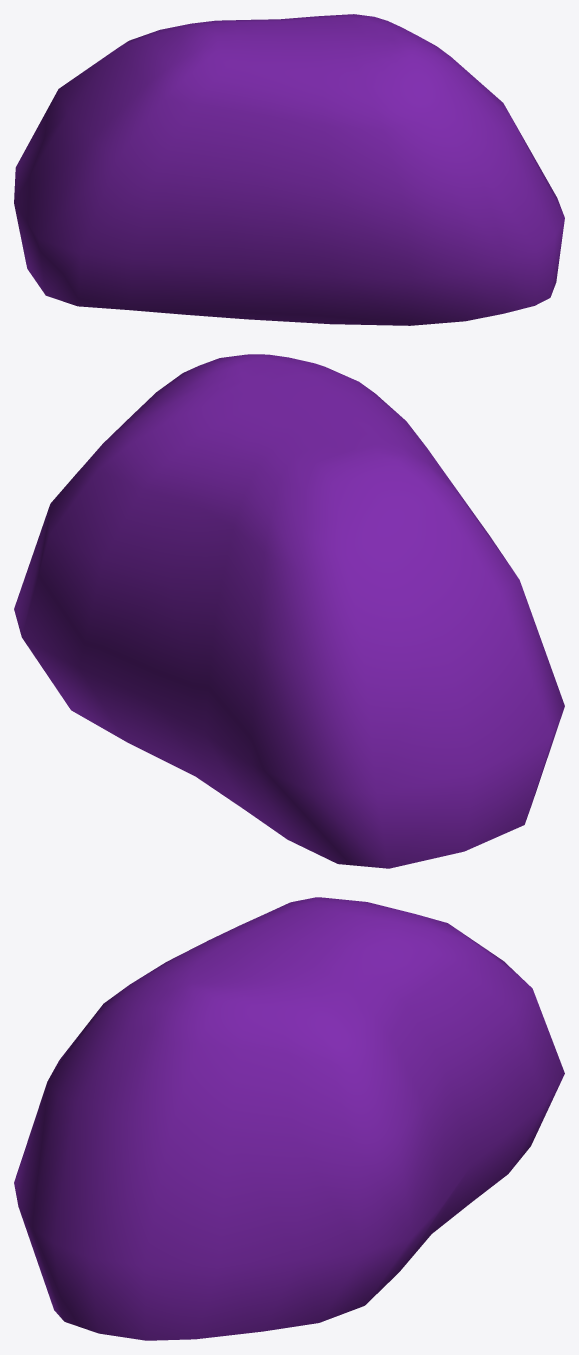
The model's file is Flag_13.fbx.
3 views of the same model, one above another, from view 1: azimuth 30°, elevation 25°; view 2: azimuth 150°, elevation 25°; view 3: azimuth 270°, elevation 25° (orthographic). The views are drawn at different scales.
Visible parts, largest first — view 1: Flag_13; view 2: Flag_13; view 3: Flag_13.
Part boxes in pixels (<box>): Flag_13: <box>14,14,564,325</box>; Flag_13: <box>14,354,564,868</box>; Flag_13: <box>14,897,564,1340</box>.
Size of the model in its own units: 62.13 by 32.31 by 57.45.
